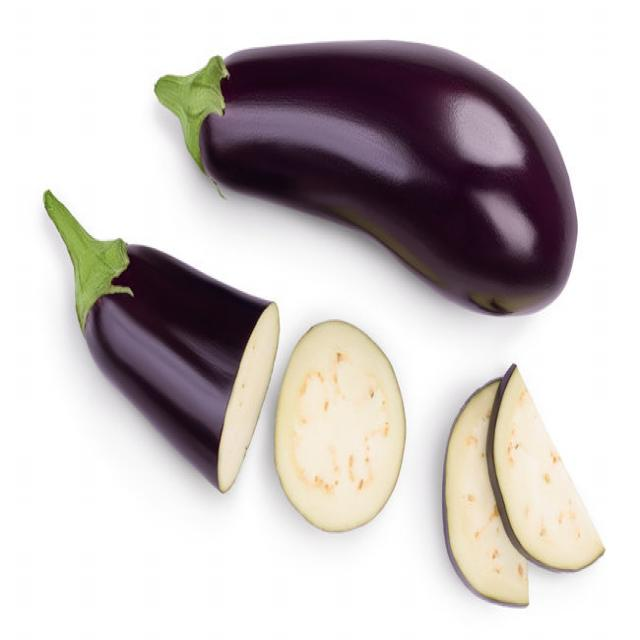eggplant: (145, 39, 582, 334), (442, 360, 612, 624), (268, 310, 420, 546)
